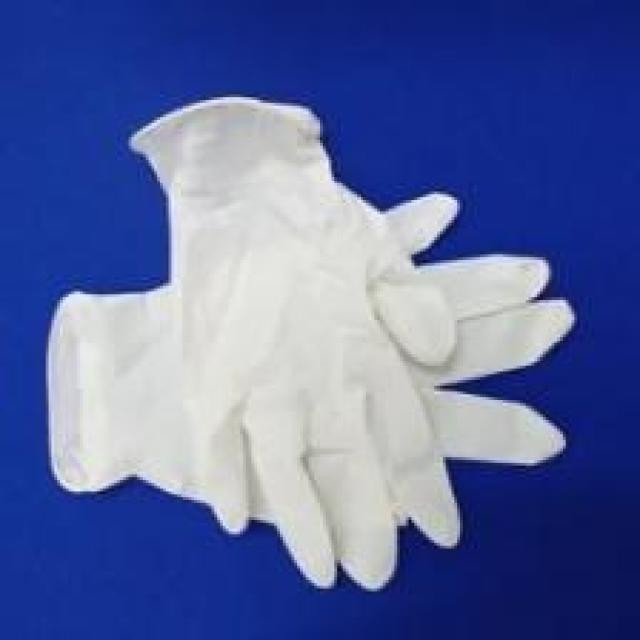Glove: (37, 83, 583, 605)
